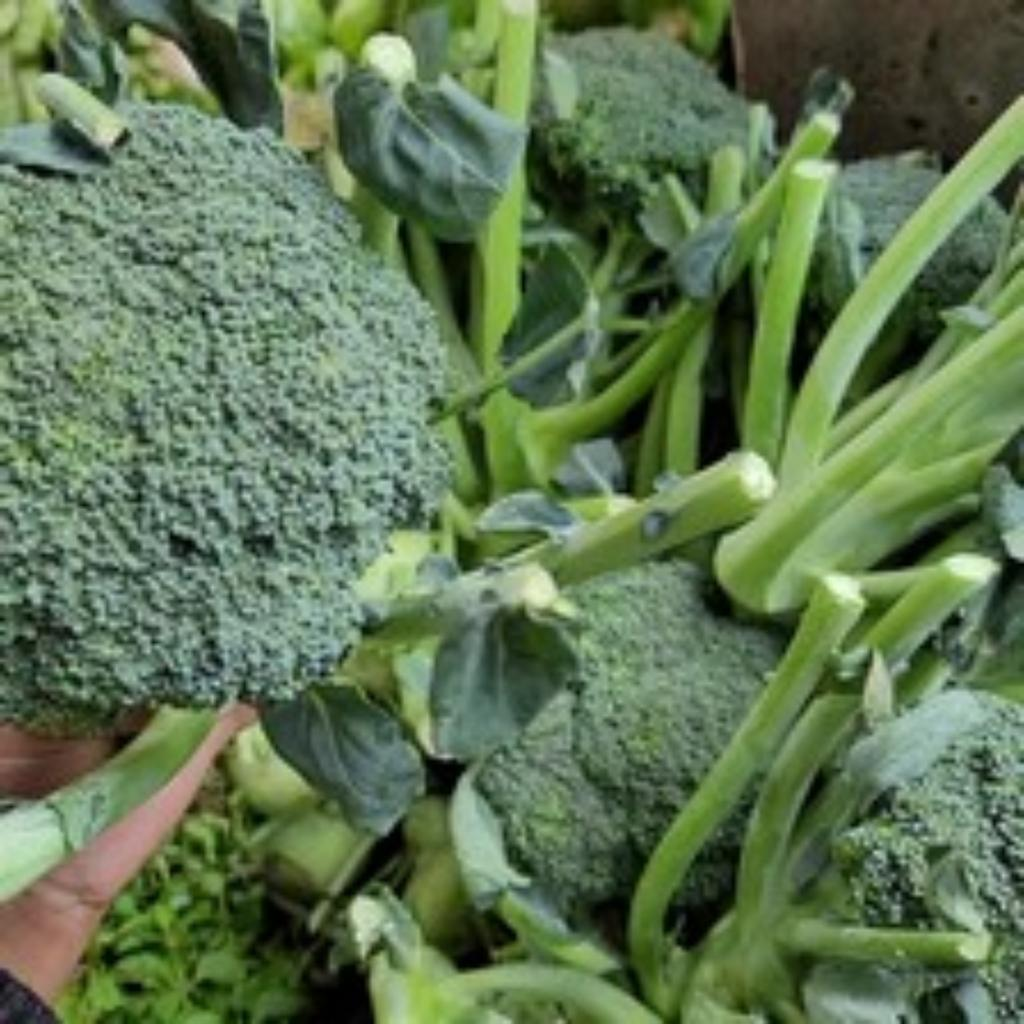Broccoli: (0, 108, 448, 731), (0, 106, 446, 727)
